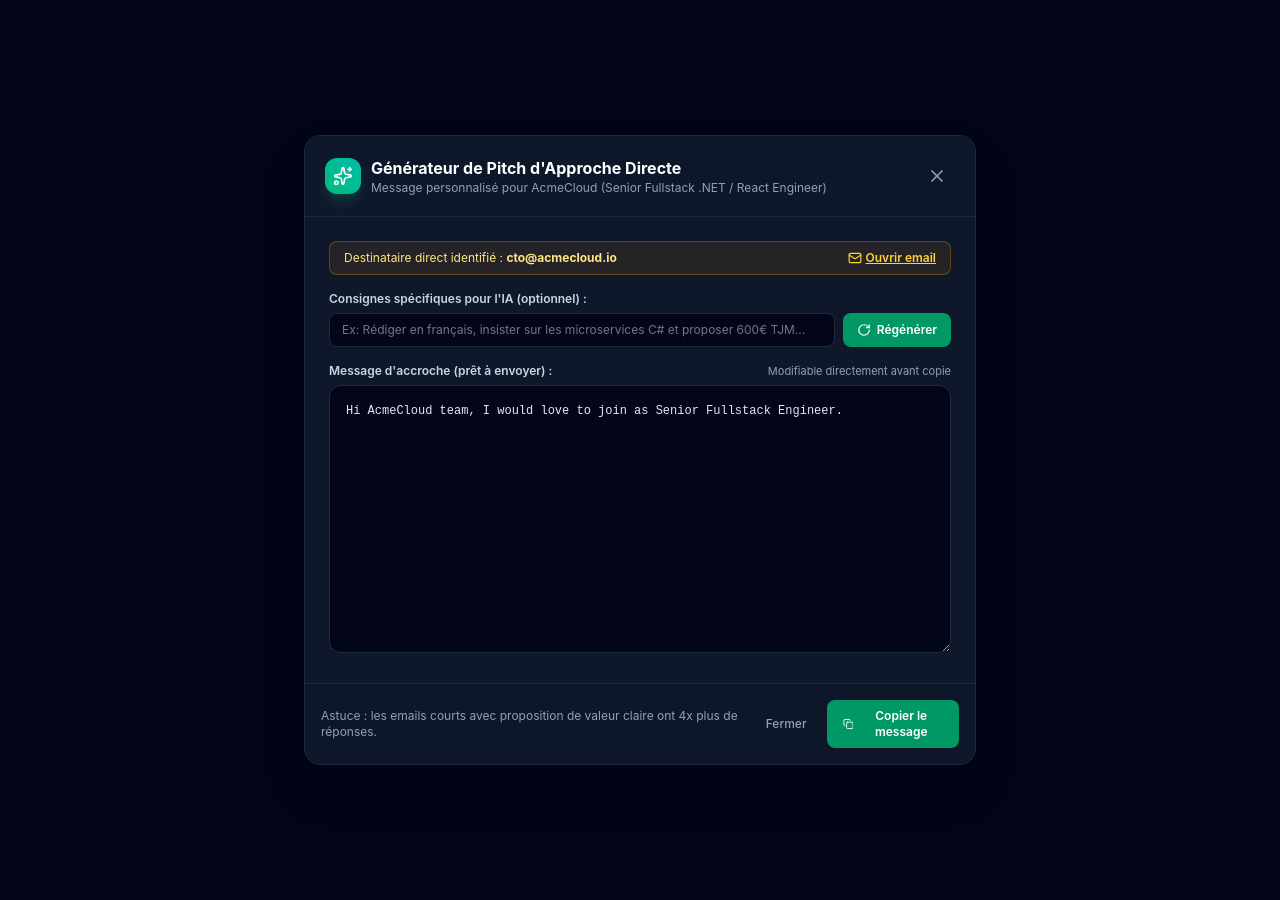
Test case: UI Components Suite › PitchModal displays initial pitch and regenerates on demand
The image size is (1280, 900).
Expected: the text box showing "Hi AcmeCloud team" is shown, [329,385,951,653]
Replace the text in the field with placeholder "Rédiger en français" with "Insister sur .NET 8" at [582, 330], box [329,313,835,347]
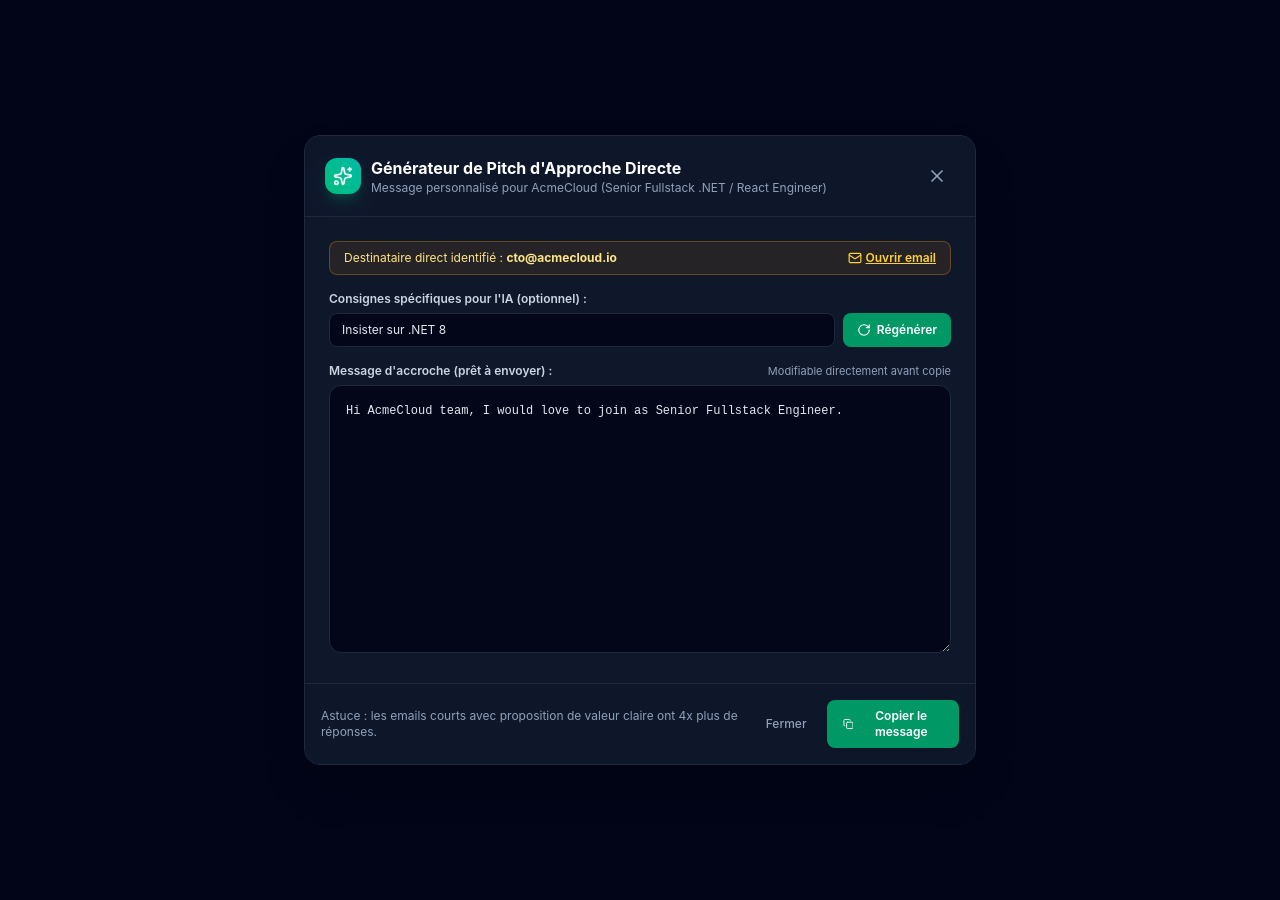
Click the button "Régénérer" at [897, 330], box [843,313,951,347]
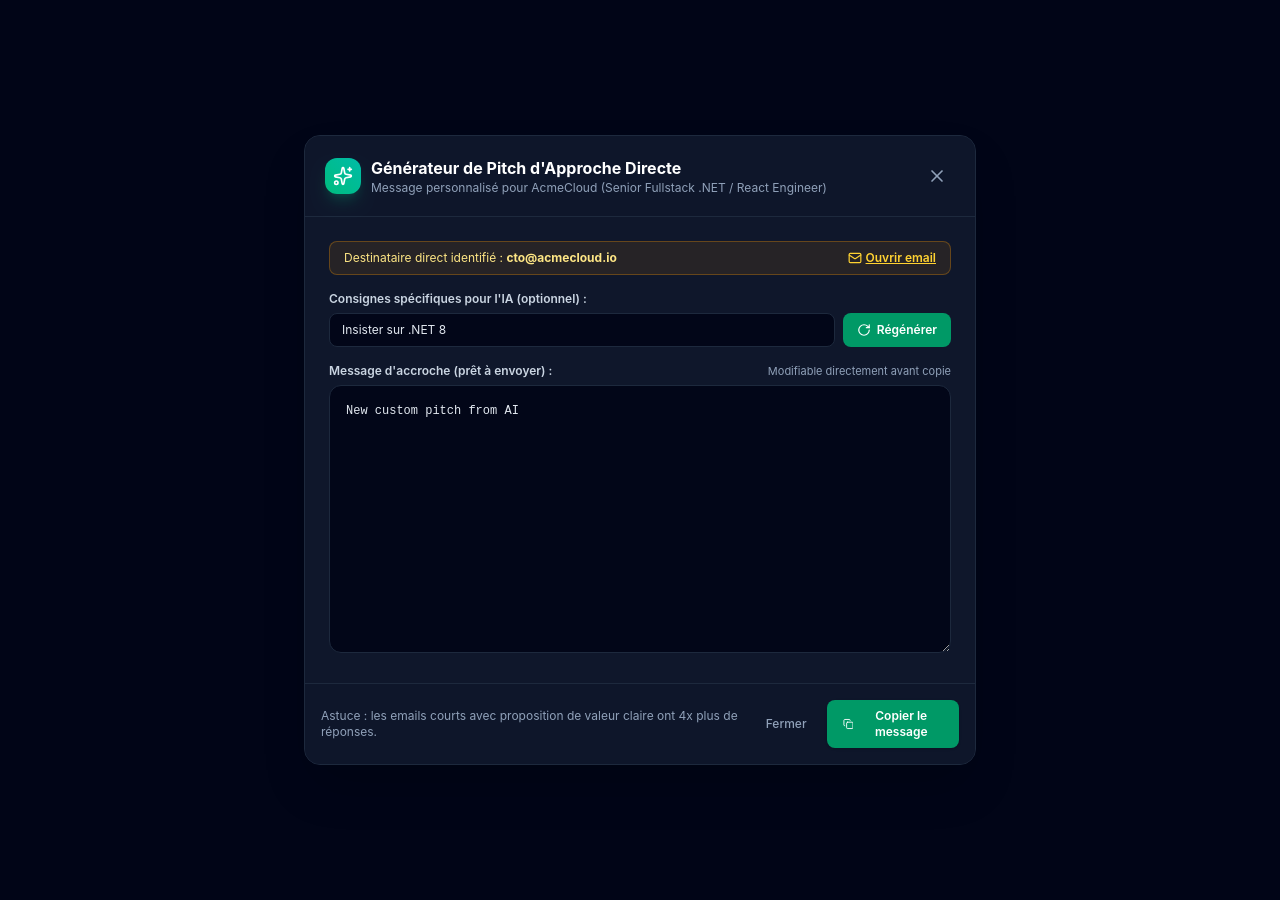
Result: the text box showing "New custom pitch from AI" is shown at [329,385,951,653]
